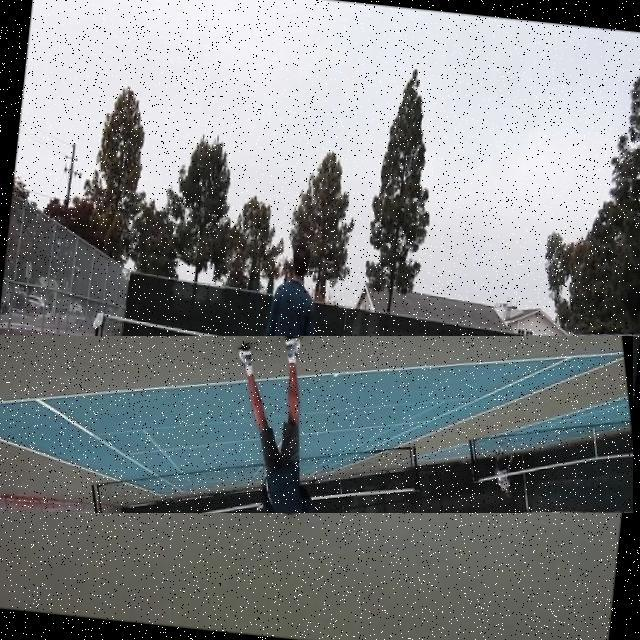court: (0, 336, 633, 513)
player: (236, 239, 329, 514)
